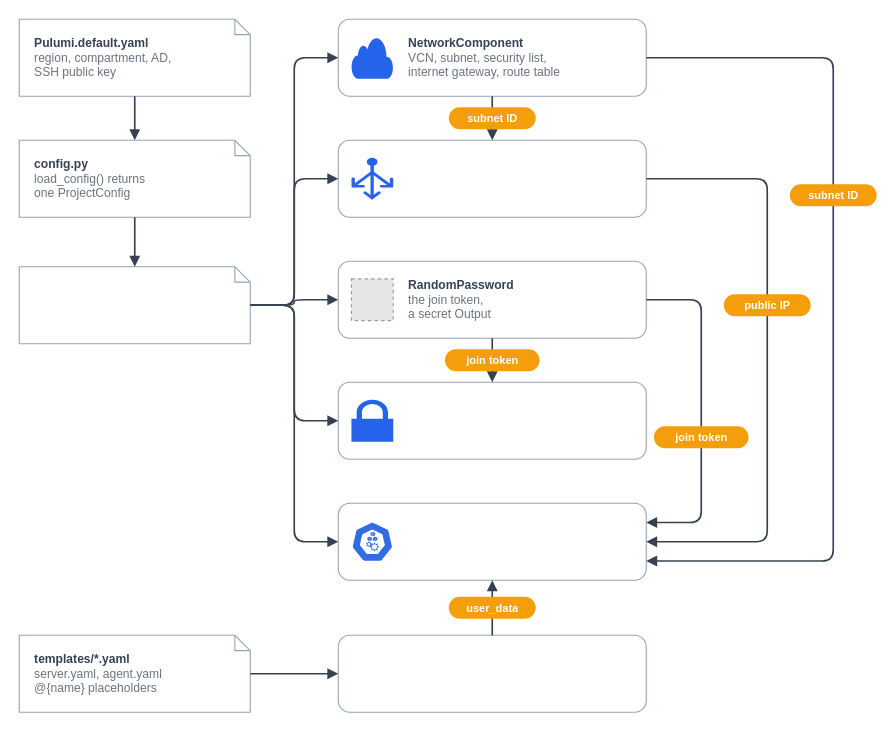
Image size: 895x732. Some labels were removed from this diagram. Grey dashed boxes stand in for pictures. Each missing label, with the box of its shape:
__main__.py creates the token and the four components: (18, 266, 250, 344)
cloud_init.py fills the templates: (337, 634, 646, 712)
K3sClusterComponent instances k3s-server and k3s-agent-1: (337, 502, 646, 580)
LoadBalancerComponent reserved public IP, network load balancer, listeners: (337, 139, 646, 217)
VaultComponent vault, key, secrets join-token and kubeconfig: (337, 381, 646, 459)
